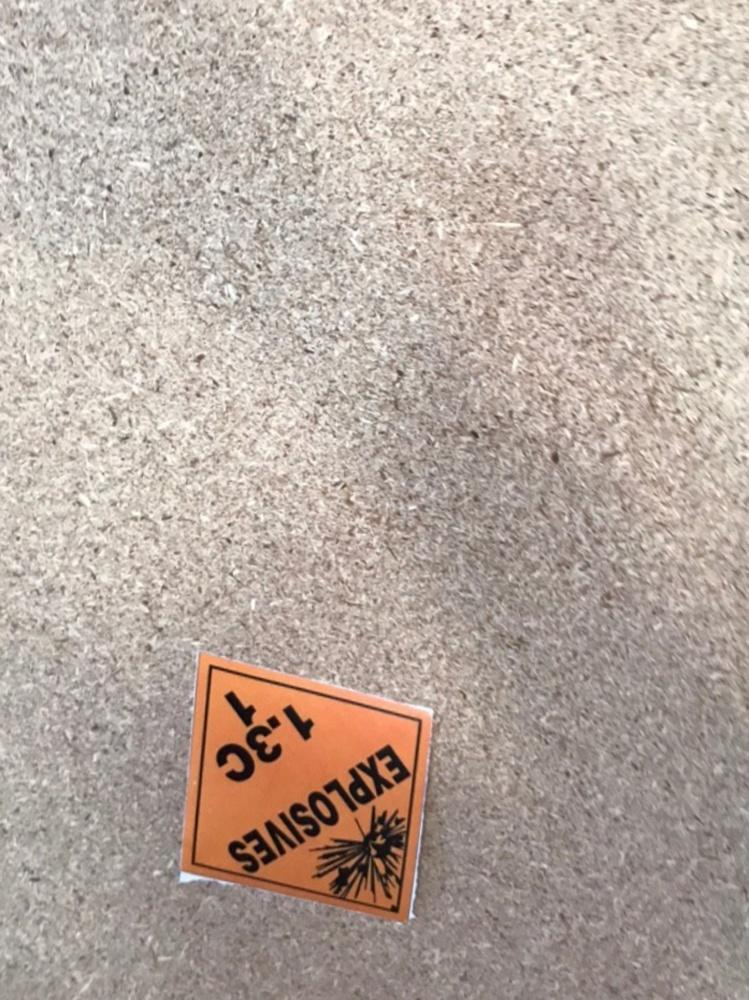explosive: (178, 648, 445, 929)
